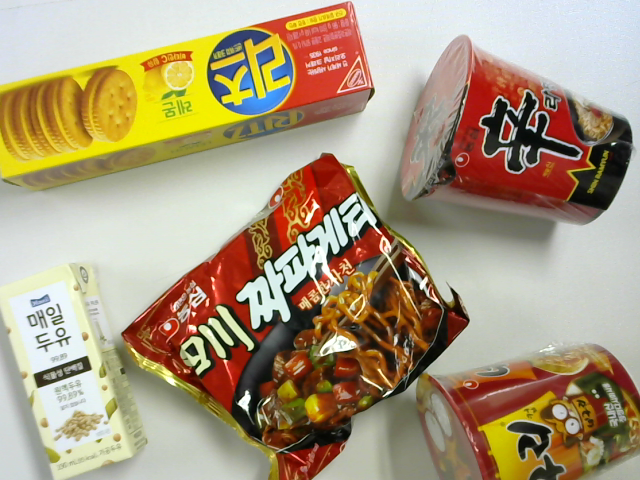99.89_Soymilk: (5, 266, 151, 480)
Raccoon: (411, 340, 638, 480)
Ritz_Remon_96g: (3, 8, 379, 196)
Sichuan_Chapaghetti: (125, 156, 474, 480)
Sinramen_small: (397, 38, 635, 238)
